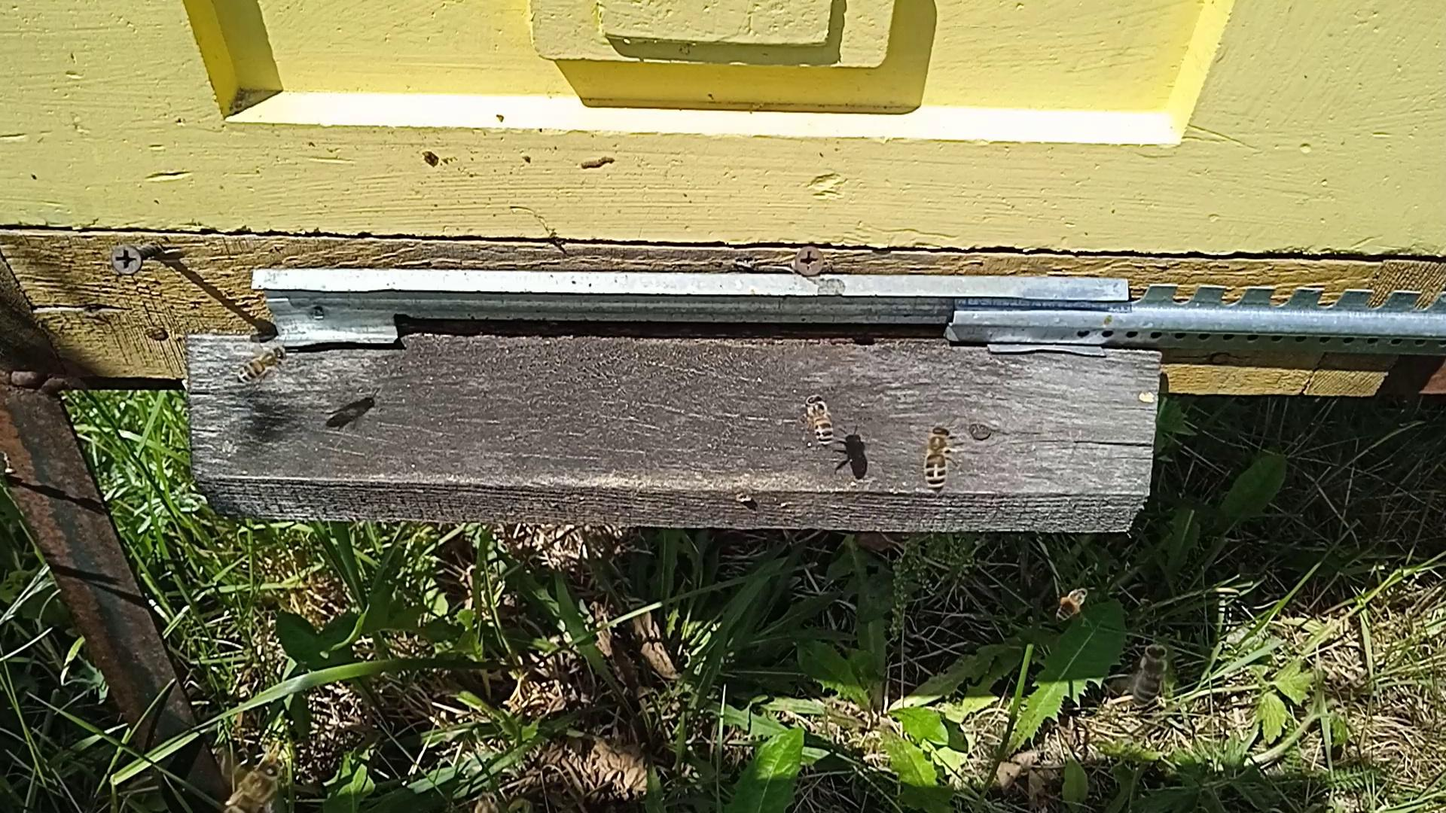worker-bee: (224, 757, 285, 813), (1130, 642, 1168, 711), (922, 424, 956, 494), (236, 346, 288, 384), (802, 394, 835, 446), (1055, 586, 1090, 623), (474, 793, 500, 813)
